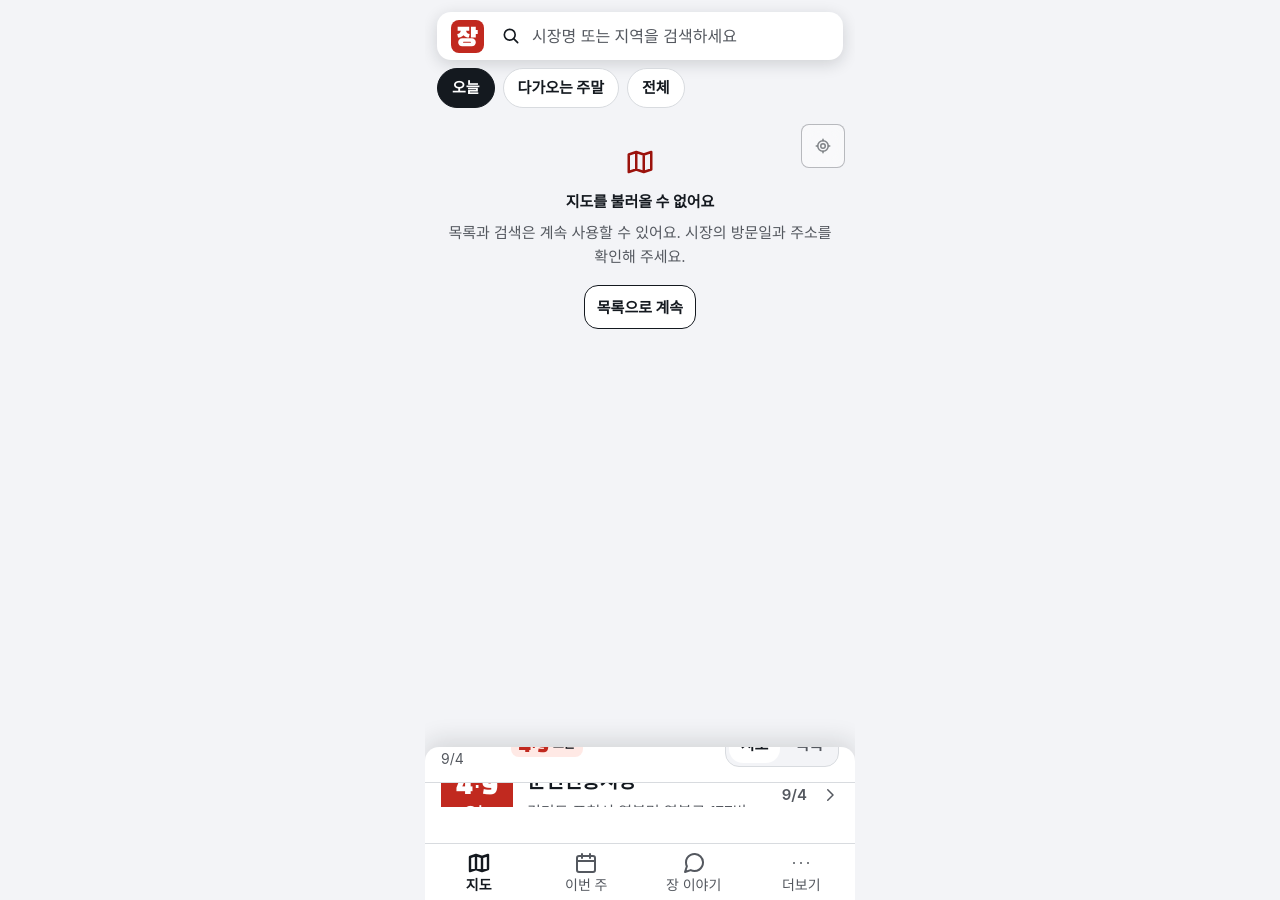
MarketExplorer › shows a share action for the selected market
(page scrolled)
Click the link "4·9 오늘 운천전통시장 경기도 포천시 영북면 영북로 177번길 25 9/4" at (477, 795), box [441, 747, 839, 843]
(page scrolled)
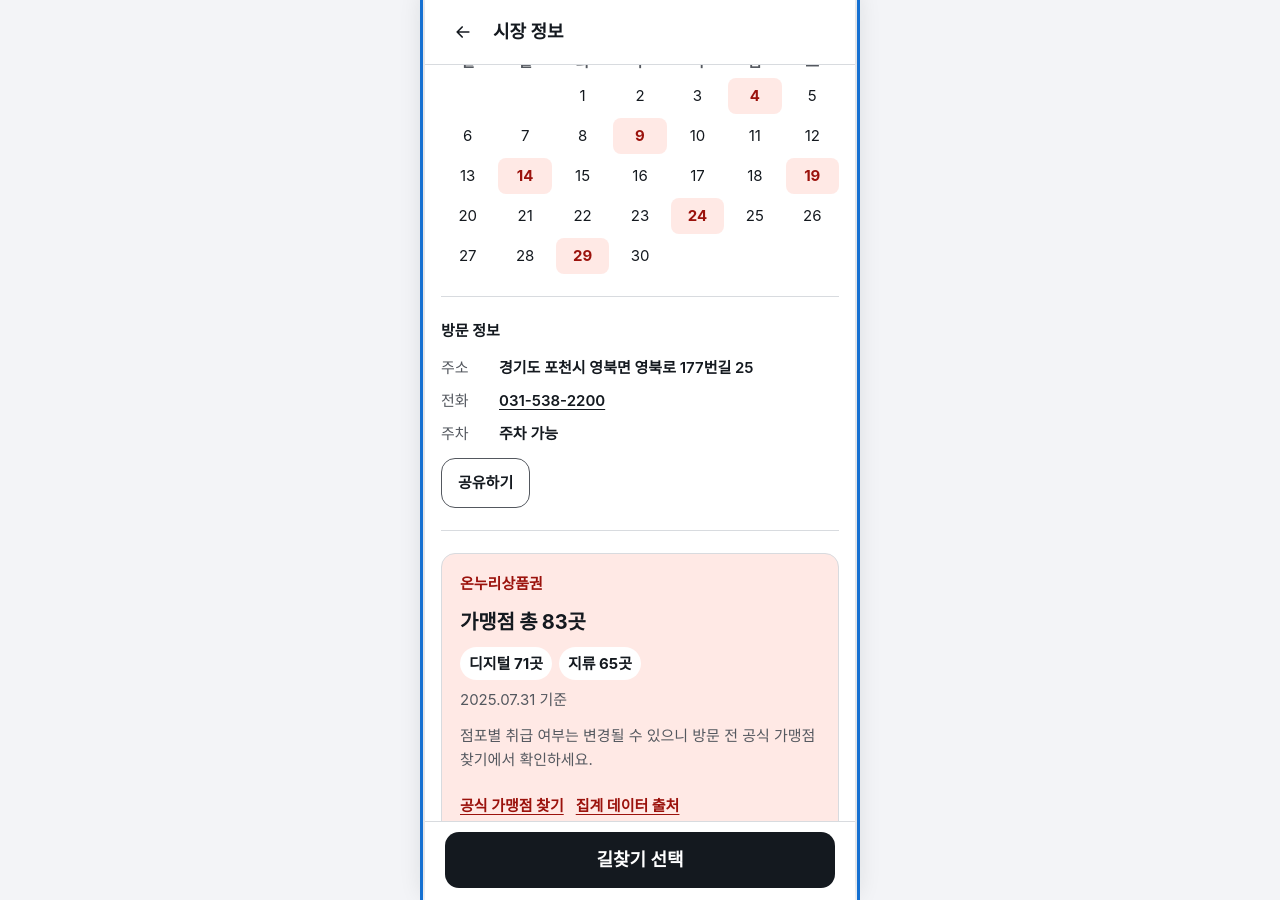
Result: the button "공유하기" is shown at [441, 458, 530, 508]
